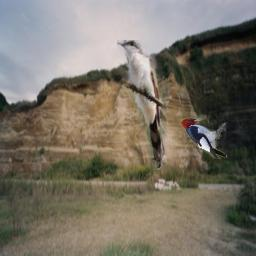Cuckoo: (117, 40, 167, 170)
Woodpecker: (179, 116, 229, 159)
